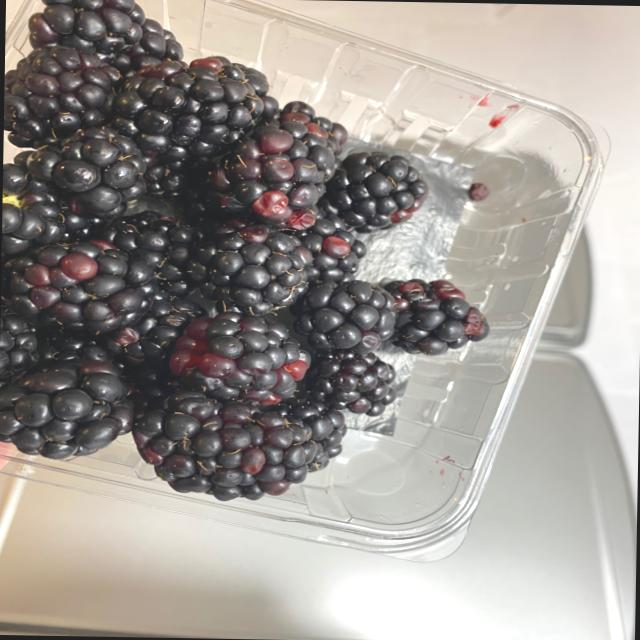blackberries: (0, 0, 503, 508)
